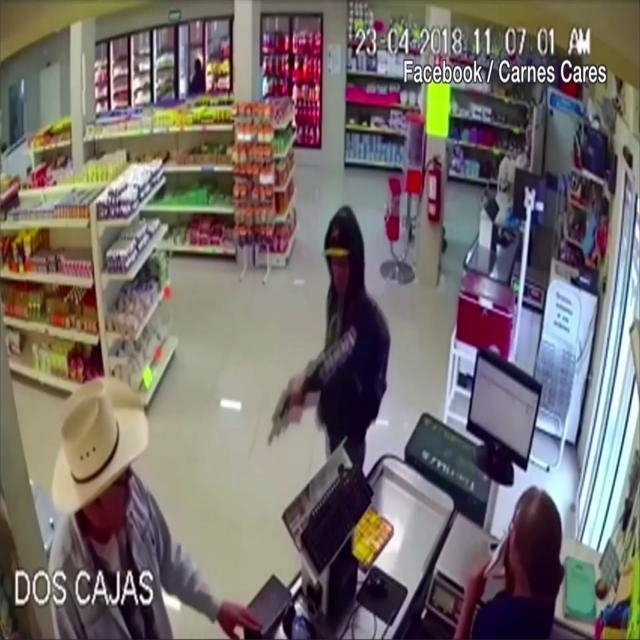Gun: (266, 391, 297, 444)
